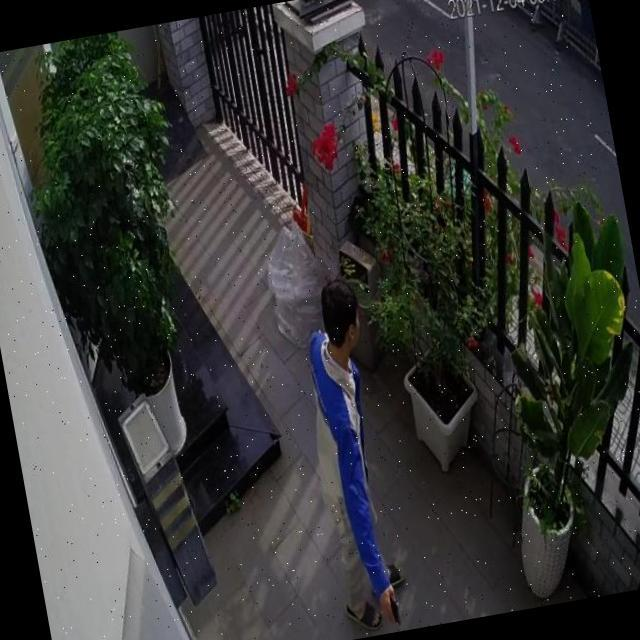person: (286, 276, 416, 640)
